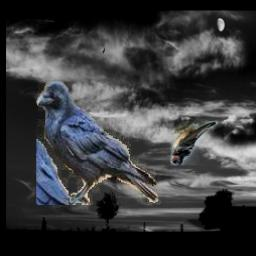Crow: (36, 80, 161, 206)
Swallow: (170, 122, 227, 166)
